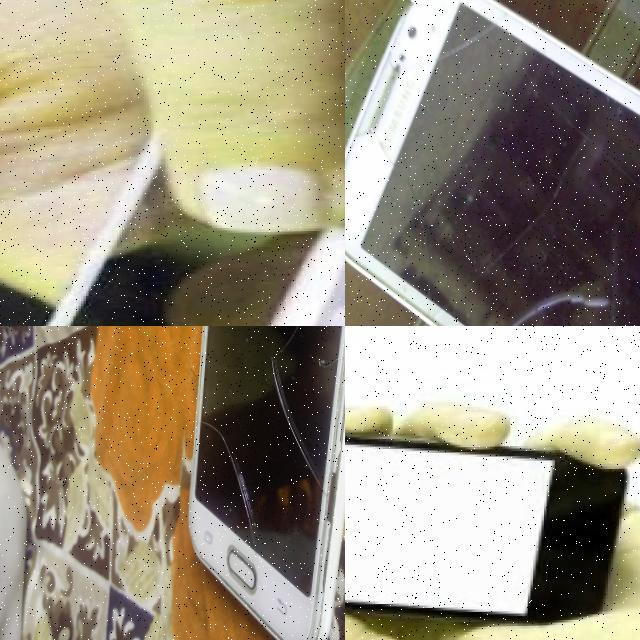screen crack: (189, 326, 345, 586), (369, 0, 513, 119)
